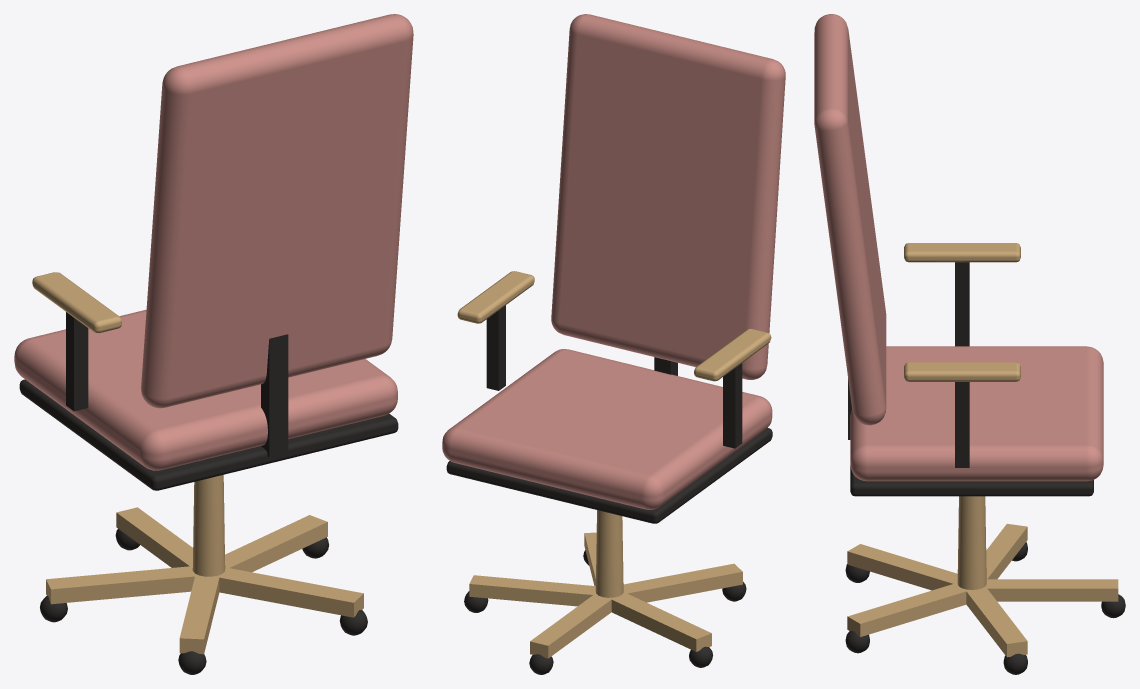
The model's file is executive-chair.glb.
3 views of the same model, side by side, from view 1: azimuth 30°, elevation 25°; view 2: azimuth 150°, elevation 25°; view 3: azimuth 270°, elevation 25° (orthographic). The views are drawn at different scales.
Parts seen in each view (by area): view 1: executive-chair_LOD0:upholstery, executive-chair_LOD0:bronze, executive-chair_LOD0:graphite; view 2: executive-chair_LOD0:upholstery, executive-chair_LOD0:bronze, executive-chair_LOD0:graphite; view 3: executive-chair_LOD0:upholstery, executive-chair_LOD0:bronze, executive-chair_LOD0:graphite.
Boxes of the visible parts, left/top/right/bottom form: executive-chair_LOD0:upholstery: left=14, top=14, right=413, bottom=470; executive-chair_LOD0:bronze: left=32, top=272, right=363, bottom=654; executive-chair_LOD0:graphite: left=19, top=312, right=398, bottom=674; executive-chair_LOD0:upholstery: left=442, top=14, right=785, bottom=509; executive-chair_LOD0:bronze: left=457, top=271, right=771, bottom=658; executive-chair_LOD0:graphite: left=446, top=305, right=772, bottom=674; executive-chair_LOD0:upholstery: left=814, top=14, right=1103, bottom=481; executive-chair_LOD0:bronze: left=847, top=243, right=1118, bottom=657; executive-chair_LOD0:graphite: left=845, top=262, right=1125, bottom=674.
Size of what is drawn, in the model's own units: 0.64 by 1.26 by 0.6384.
